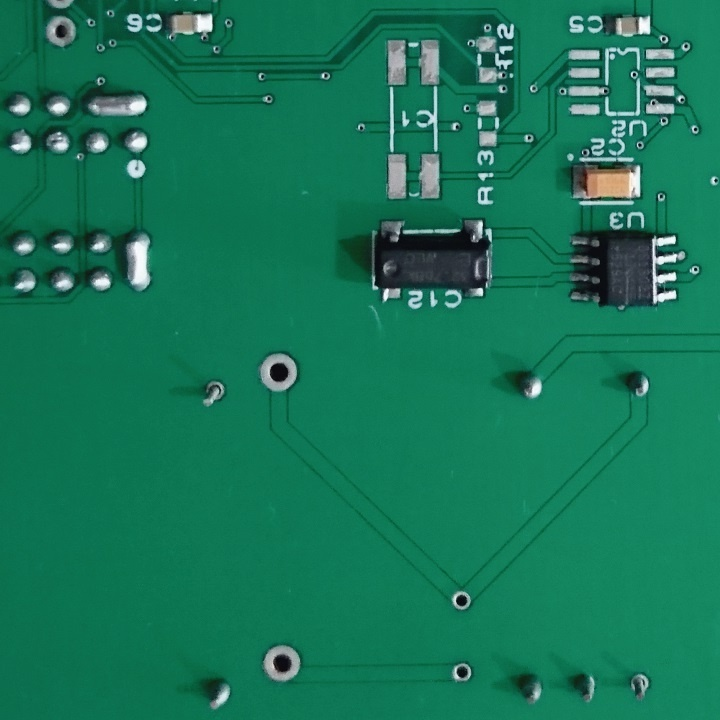F: (259, 640, 306, 683), (256, 350, 301, 394), (42, 14, 78, 49), (198, 378, 227, 409), (627, 669, 656, 700), (452, 658, 475, 689), (450, 591, 473, 613)
P: (83, 89, 153, 123), (123, 226, 156, 298)
